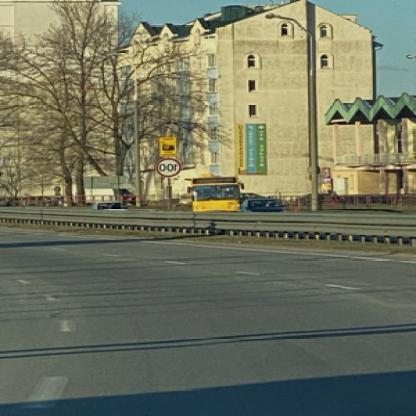speedlimit: (158, 156, 183, 174)
